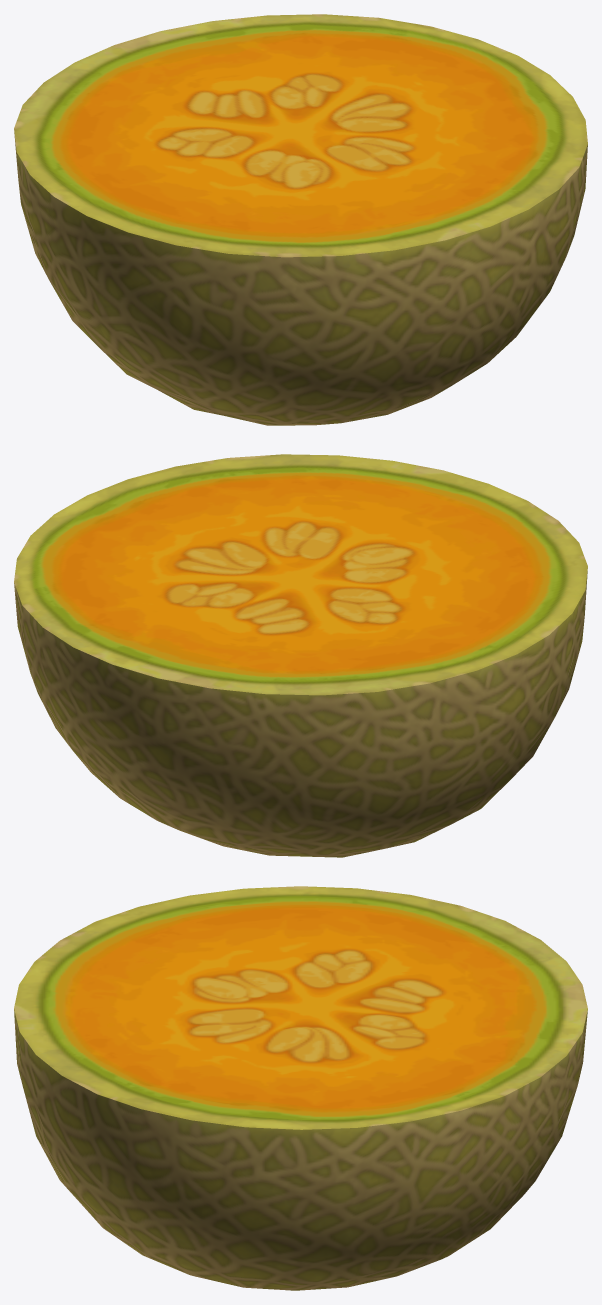
File: SM_CantaloupeCutBottom.fbx
The picture shows the model from 3 angles, top to bottom: view 1: azimuth 30°, elevation 25°; view 2: azimuth 150°, elevation 25°; view 3: azimuth 270°, elevation 25°; orthographic projection.
Parts seen in each view (by area): view 1: SM_CantaloupeCutBottom; view 2: SM_CantaloupeCutBottom; view 3: SM_CantaloupeCutBottom.
Boxes of the visible parts, box(x1,y1,x2,y2) form: SM_CantaloupeCutBottom: box(14, 14, 587, 425); SM_CantaloupeCutBottom: box(14, 454, 587, 857); SM_CantaloupeCutBottom: box(14, 886, 587, 1290).
Bounding box in the file's own units: 26.71 × 12.63 × 26.59.
